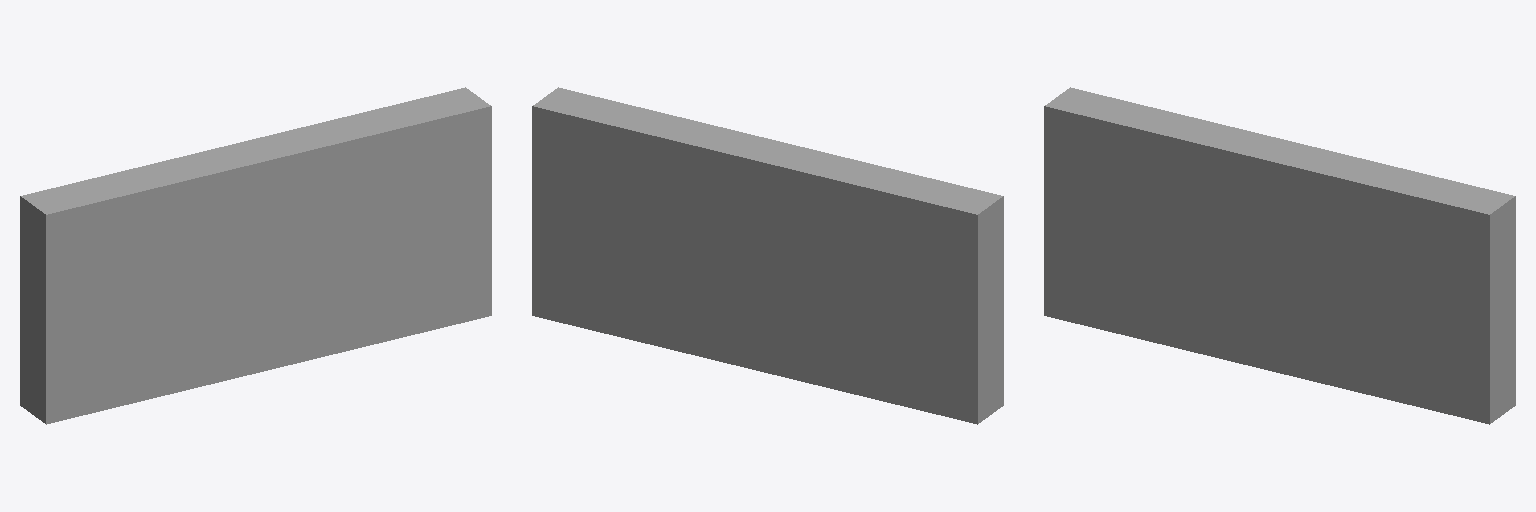
robot.urdf — narrow_tunnel:
<robot name="narrow_tunnel">
  <link name="narrow_tunnel_base_link">
    <visual>
      <origin rpy="0 0 3.14159" xyz="0 0 0"/>
      <geometry>
        <mesh filename="../meshes/wall2.obj"  scale="0.0008 0.0008 0.0008"/>
      </geometry>
      <material name="tray_material">
        <color rgba="0.7 0.7 0.7 1"/>
      </material>
    </visual>
    <collision>
      <origin rpy="0 0 3.14159" xyz="0 0 0"/>
      <geometry>
        <mesh filename="../meshes/wall2.obj" scale="0.0008 0.0008 0.0008"/>
      </geometry>
    </collision>
  </link>
</robot>

--- Facts derived from the render (not from the file) ---
The picture shows the robot from 3 angles, left to right: view 1: azimuth 30°, elevation 25°; view 2: azimuth 150°, elevation 25°; view 3: azimuth 330°, elevation 25°; orthographic projection.
Robot: narrow_tunnel — 1 links, 0 joints (none); root link narrow_tunnel_base_link; default pose: every joint at zero.
Links seen in each view (by area): view 1: narrow_tunnel_base_link; view 2: narrow_tunnel_base_link; view 3: narrow_tunnel_base_link.
Boxes of the visible links, x1,y1,x2,y2 form: narrow_tunnel_base_link: (20,87,491,424); narrow_tunnel_base_link: (532,87,1003,424); narrow_tunnel_base_link: (1044,87,1515,424).
Bounding box of the posed robot: 0.8 × 0.08 × 0.36 m (x, y, z).
Meshes: 1 distinct files referenced, 1 mesh visuals loaded (1 OBJ).